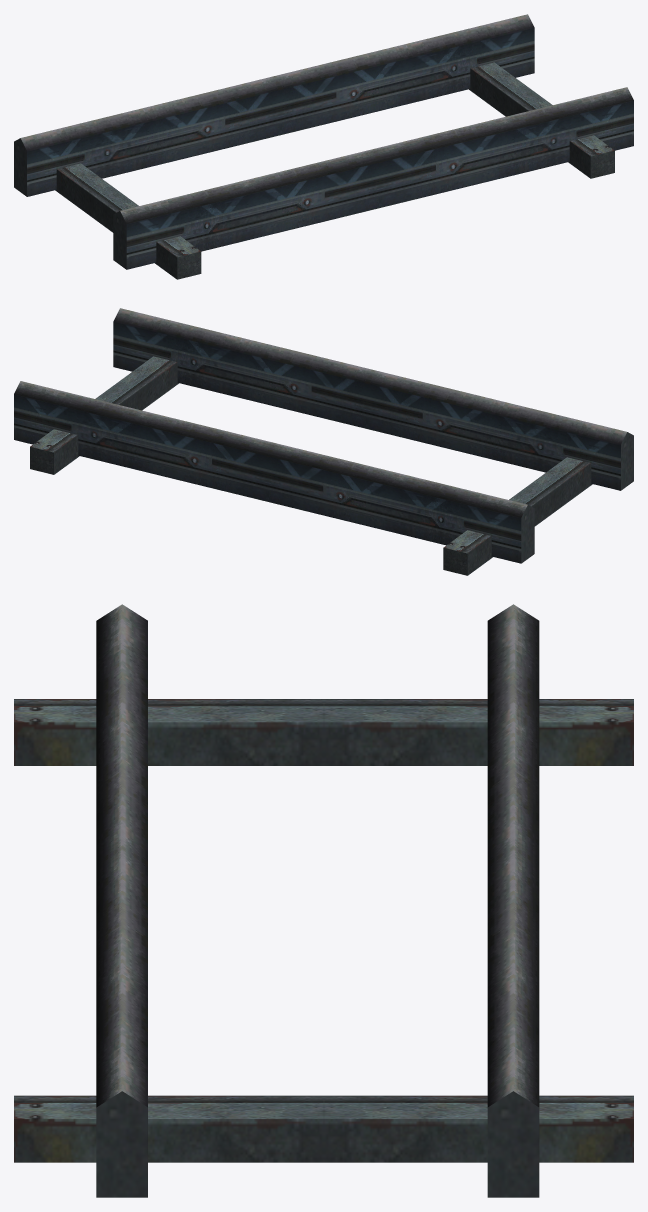
File: fb_suidao_tiegui03.FBX
3 renders of one model, top to bottom at view 1: azimuth 30°, elevation 25°; view 2: azimuth 150°, elevation 25°; view 3: azimuth 270°, elevation 25°, orthographic. The views are drawn at different scales.
Visible parts, largest first — view 1: fb_suidao_tiegui03; view 2: fb_suidao_tiegui03; view 3: fb_suidao_tiegui03.
Boxes of the visible parts, box(x1,y1,x2,y2) form: fb_suidao_tiegui03: box(14, 14, 633, 279); fb_suidao_tiegui03: box(14, 308, 633, 575); fb_suidao_tiegui03: box(14, 604, 633, 1197).
Size of the model in its own units: 1354 by 143 by 729.
